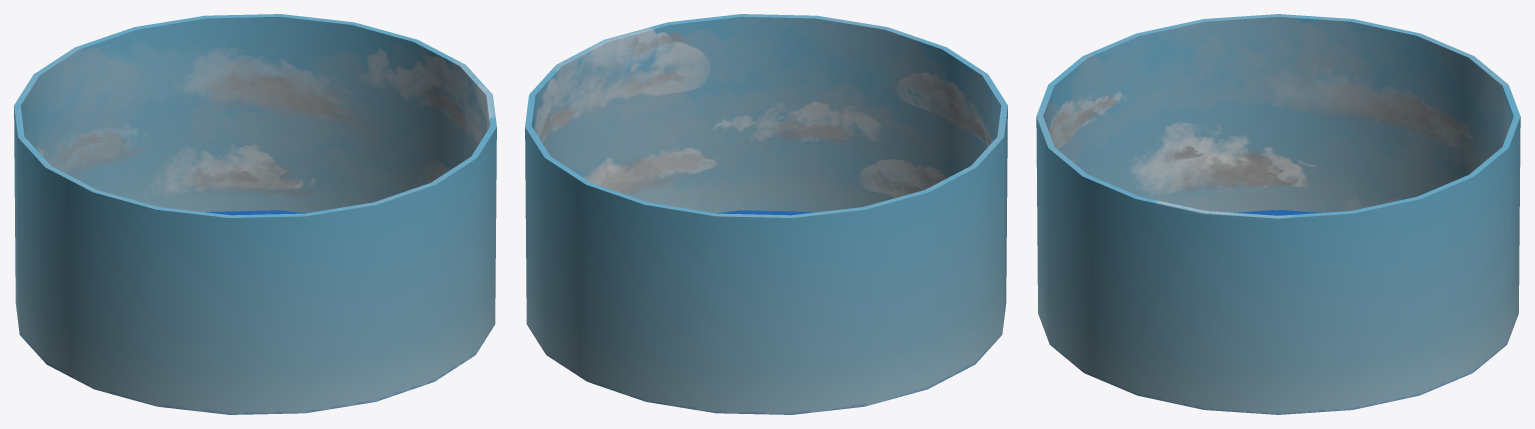
The model's file is sora.fbx.
3 views of the same model, side by side, from view 1: azimuth 30°, elevation 25°; view 2: azimuth 150°, elevation 25°; view 3: azimuth 270°, elevation 25° (orthographic).
Visible parts, largest first — view 1: pCylinder1; view 2: pCylinder1; view 3: pCylinder1.
Boxes of the visible parts, box(x1,y1,x2,y2) form: pCylinder1: box(14, 14, 496, 414); pCylinder1: box(525, 14, 1007, 414); pCylinder1: box(1036, 14, 1520, 414).
Size of the model in its own units: 810 by 367 by 810.
